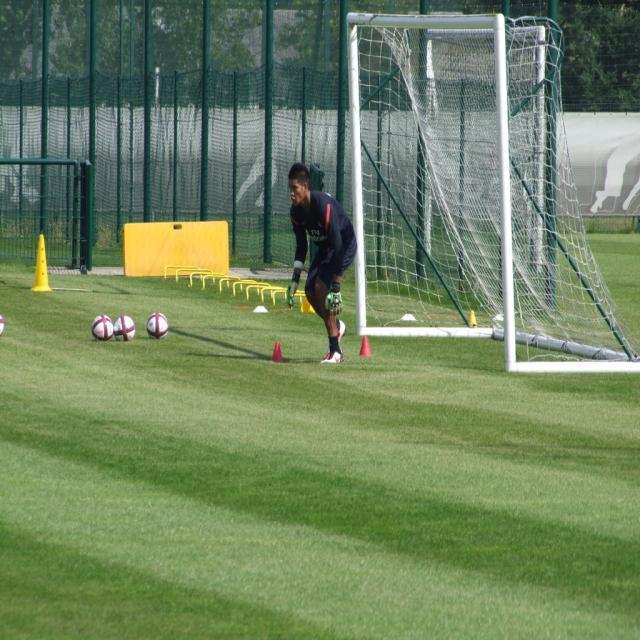football: (103, 287, 179, 364)
